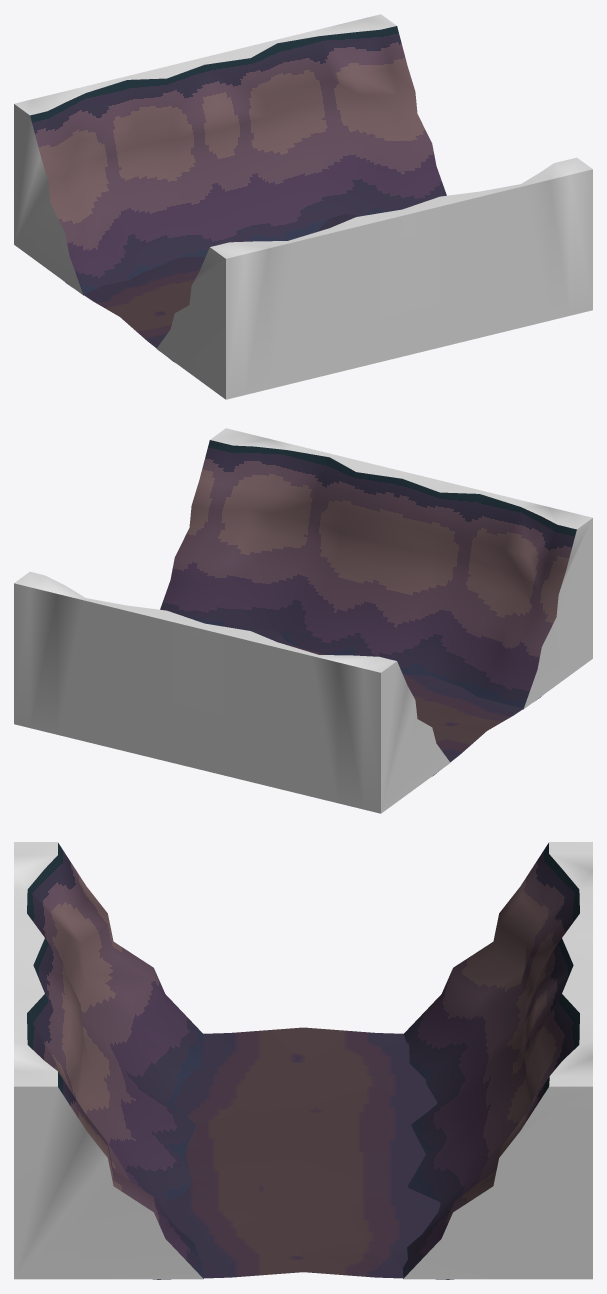
The model's file is CaveStraight.fbx.
3 renders of one model, top to bottom at view 1: azimuth 30°, elevation 25°; view 2: azimuth 150°, elevation 25°; view 3: azimuth 270°, elevation 25°, orthographic. The views are drawn at different scales.
Visible parts, largest first — view 1: WallStraight, FloorStraight; view 2: WallStraight, FloorStraight; view 3: WallStraight, FloorStraight.
Part boxes in pixels (left/top/right/bottom): WallStraight: left=14, top=14, right=592, bottom=399; FloorStraight: left=65, top=214, right=361, bottom=362; WallStraight: left=14, top=428, right=592, bottom=813; FloorStraight: left=219, top=625, right=541, bottom=776; WallStraight: left=14, top=842, right=592, bottom=1279; FloorStraight: left=153, top=1027, right=453, bottom=1279.
Bounding box in the file's own units: 200 × 75.94 × 200.
